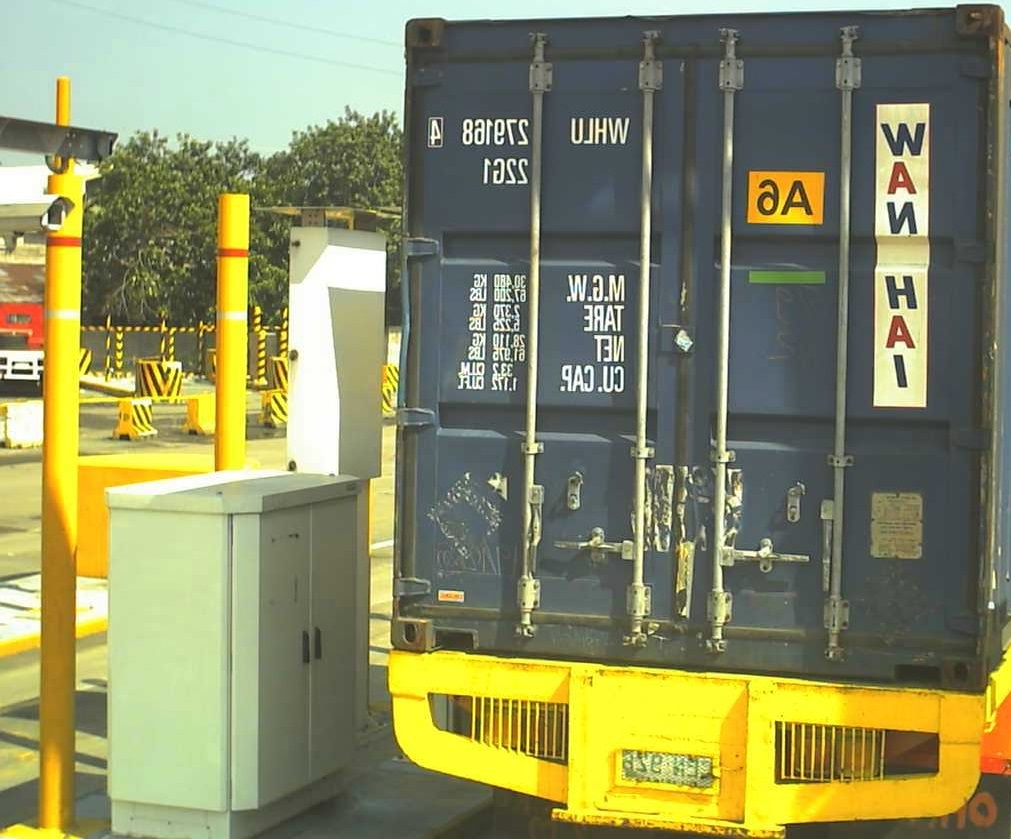container_door: (396, 1, 997, 698)
